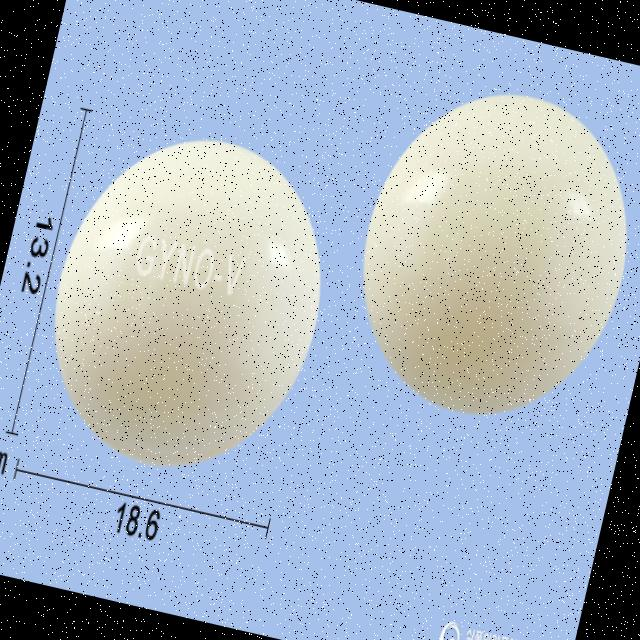Gyno-V Vaginal Soft Cap: (23, 107, 354, 492), (331, 67, 640, 441)
